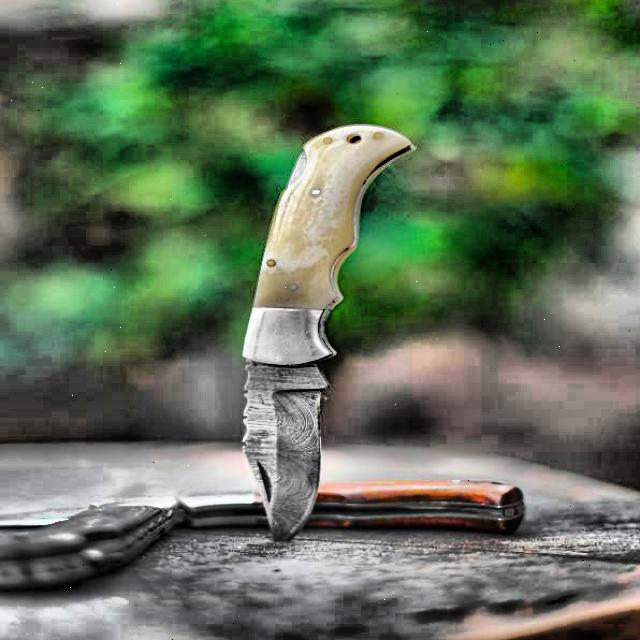knife: (237, 116, 418, 537)
